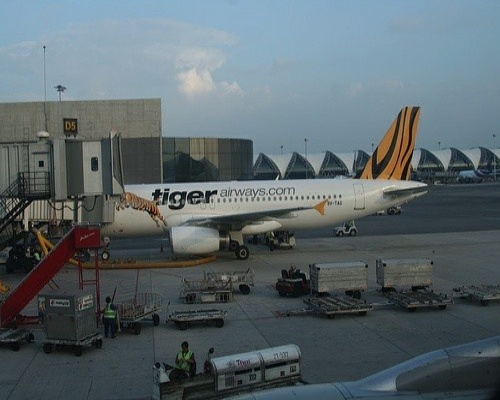plane: (117, 106, 429, 257)
